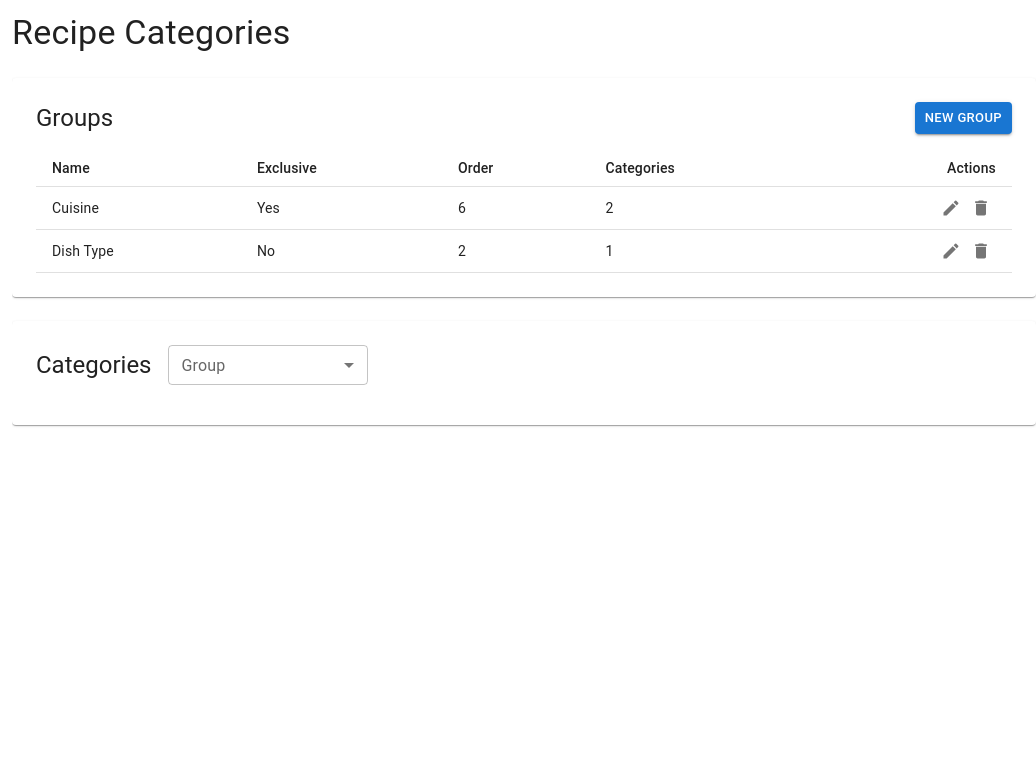
Scenario: recipe categories admin page › shows a group's categories when selected
Expected: the text "Cuisine" is shown, [36,186,241,230]
Press the mouse on the dropdown at (268, 365), box [168,345,368,385]
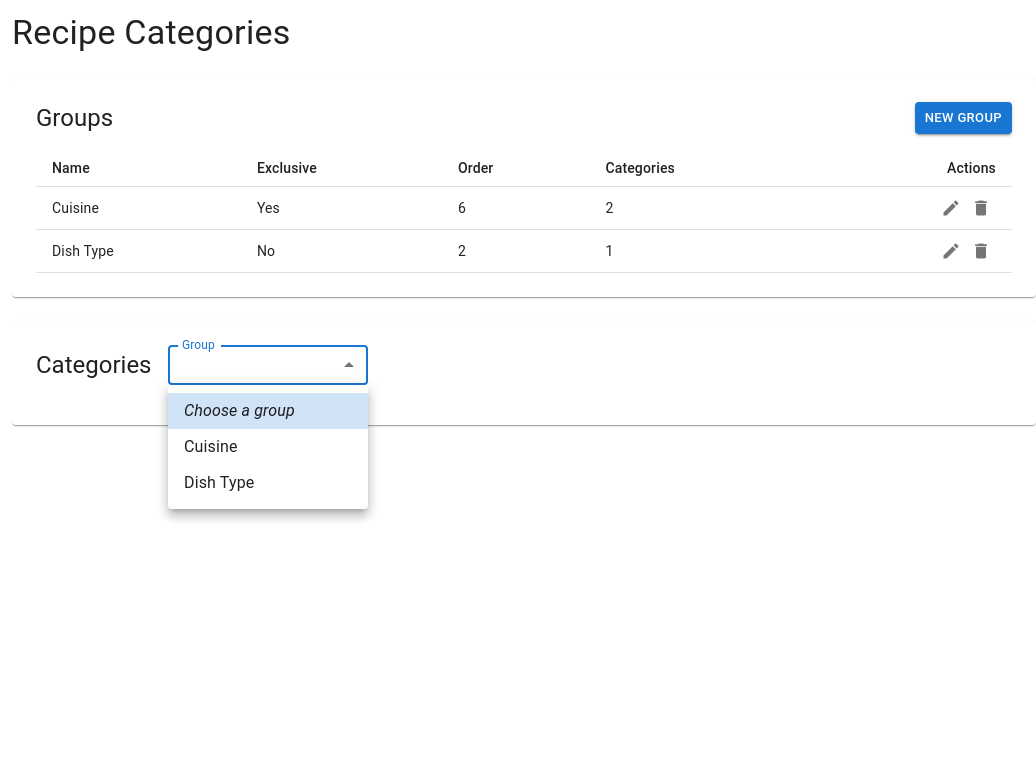
Click the option "Cuisine" at (211, 446), box [184,437,238,456]
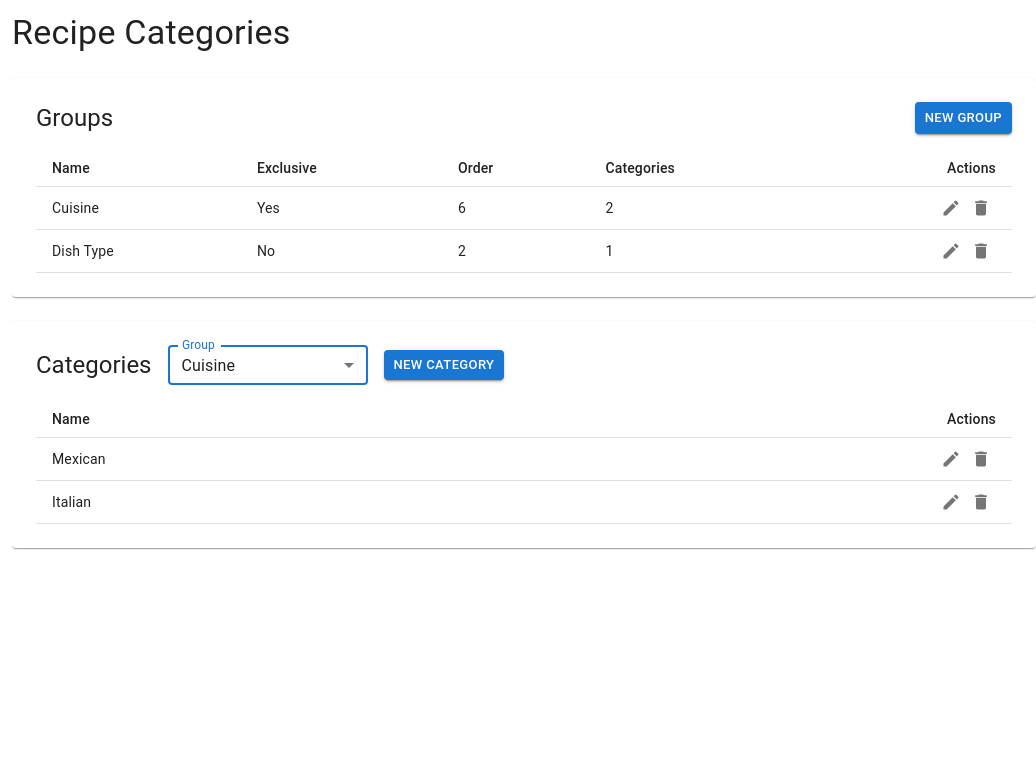
Expected: the text "Mexican" is shown, [36,438,507,480]
Expected: the text "Italian" is shown, [36,480,507,524]
